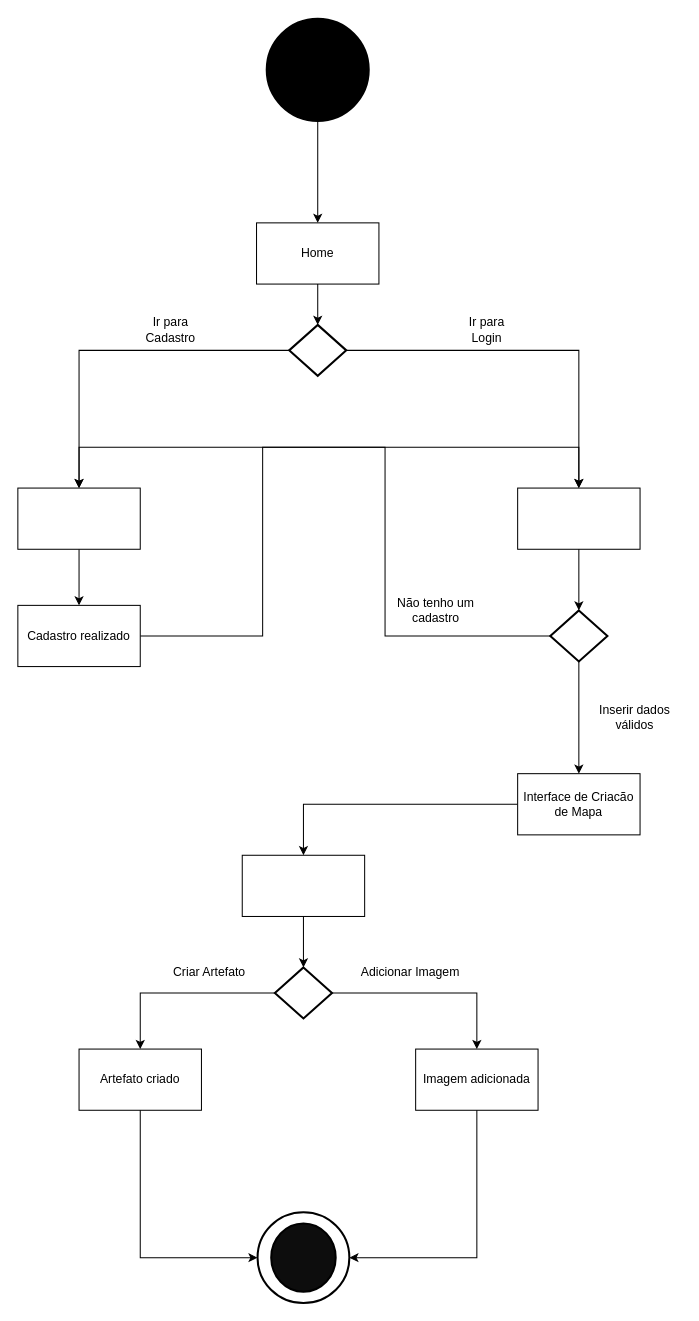
Some shapes in this 699 by 1321 pixel diagram are drawn without their labels. Each missing label, with the centre of its shape:
"Cadastro" belongs at (x=78, y=518).
"Login" belongs at (x=578, y=518).
"Mapa criado" belongs at (x=303, y=885).
